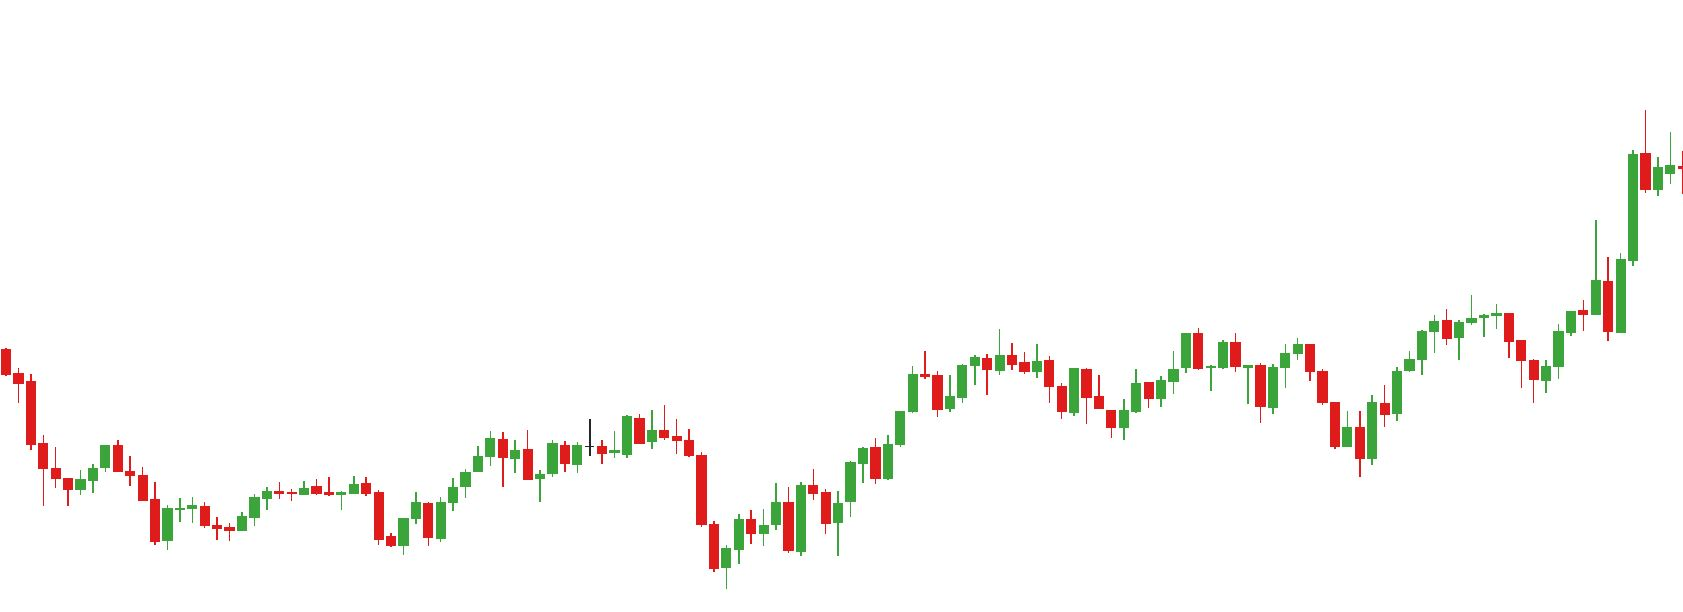buy: (396, 480, 746, 596), (1104, 369, 1353, 458), (1413, 331, 1552, 405)
